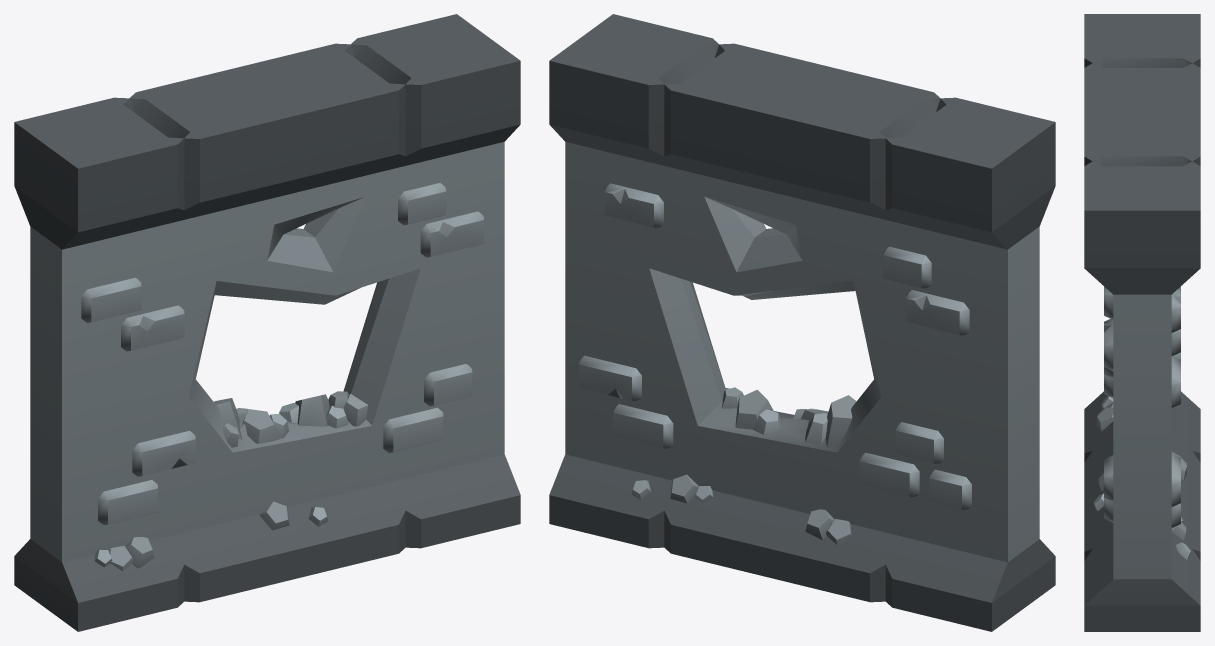
The model's file is dungeon-wall-broken.glb.
3 views of the same model, side by side, from view 1: azimuth 30°, elevation 25°; view 2: azimuth 150°, elevation 25°; view 3: azimuth 270°, elevation 25° (orthographic). The views are drawn at different scales.
Parts seen in each view (by area): view 1: dungeon-wall-broken; view 2: dungeon-wall-broken; view 3: dungeon-wall-broken.
Part boxes in pixels (x1=…): dungeon-wall-broken: x1=14, y1=14, x2=520, y2=631; dungeon-wall-broken: x1=549, y1=14, x2=1055, y2=631; dungeon-wall-broken: x1=1084, y1=14, x2=1200, y2=631.
Size of the model in its own units: 3 by 3 by 0.7501.
1 material, 1 textured.
